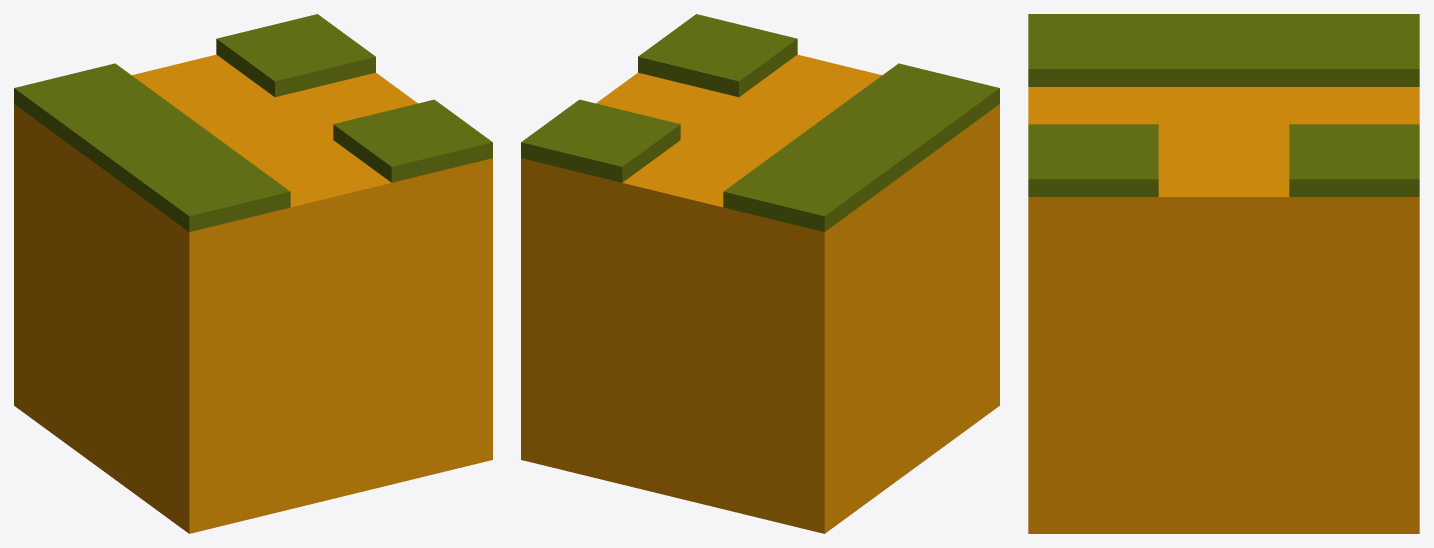
The model's file is FarmCrossingCube_02.fbx.
The picture shows the model from 3 angles, left to right: view 1: azimuth 30°, elevation 25°; view 2: azimuth 150°, elevation 25°; view 3: azimuth 270°, elevation 25°; orthographic projection. The views are drawn at different scales.
Visible parts, largest first — view 1: FarmCrossingCube_02; view 2: FarmCrossingCube_02; view 3: FarmCrossingCube_02.
Boxes of the visible parts, box(x1,y1,x2,y2) form: FarmCrossingCube_02: box(14, 14, 492, 533); FarmCrossingCube_02: box(521, 14, 999, 533); FarmCrossingCube_02: box(1028, 14, 1419, 533).
Size of the model in its own units: 1 by 1 by 1.
